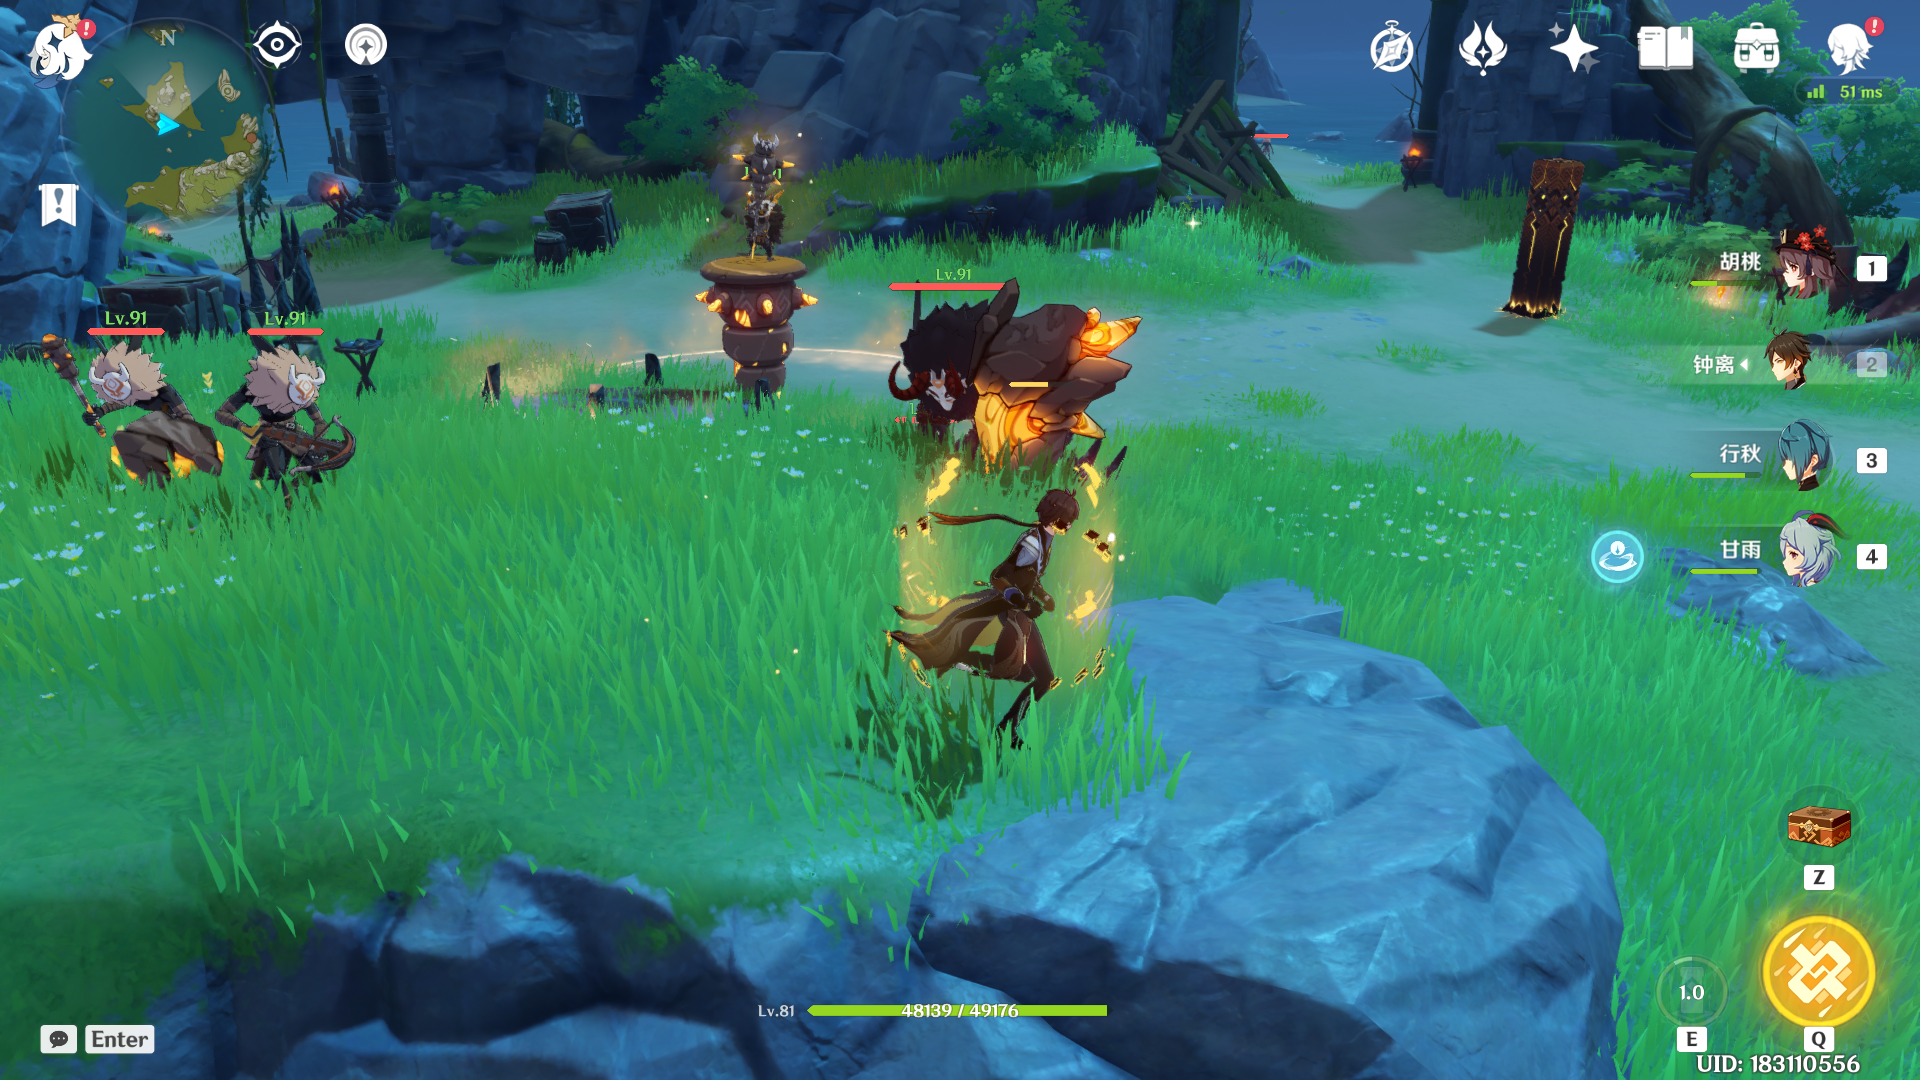bighili: (852, 244, 1153, 514)
character: (808, 425, 1218, 835)
hili: (202, 320, 373, 537), (36, 313, 223, 510), (695, 103, 833, 287)
